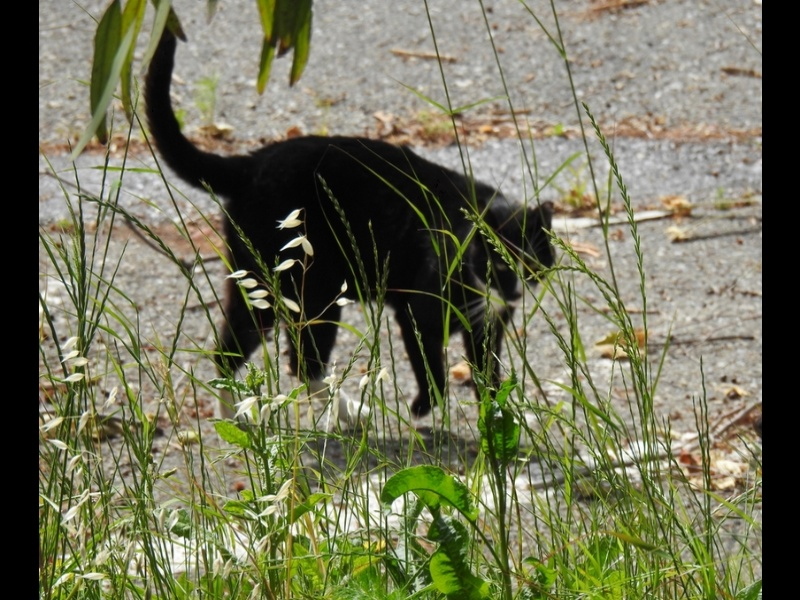cat: (138, 11, 561, 449)
